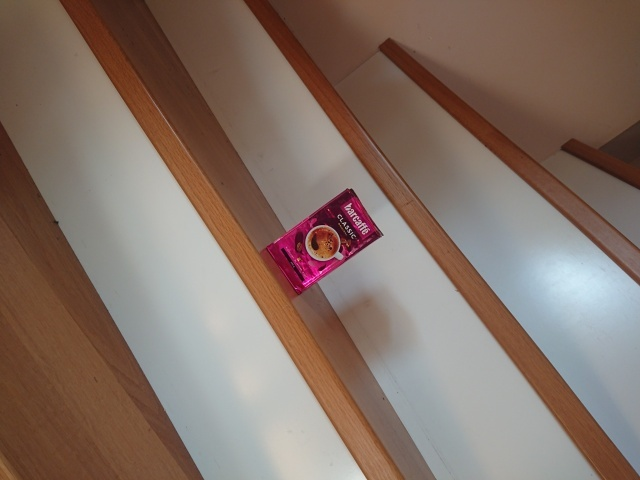Barcaffe Classic Original 225g: (264, 186, 386, 296)
